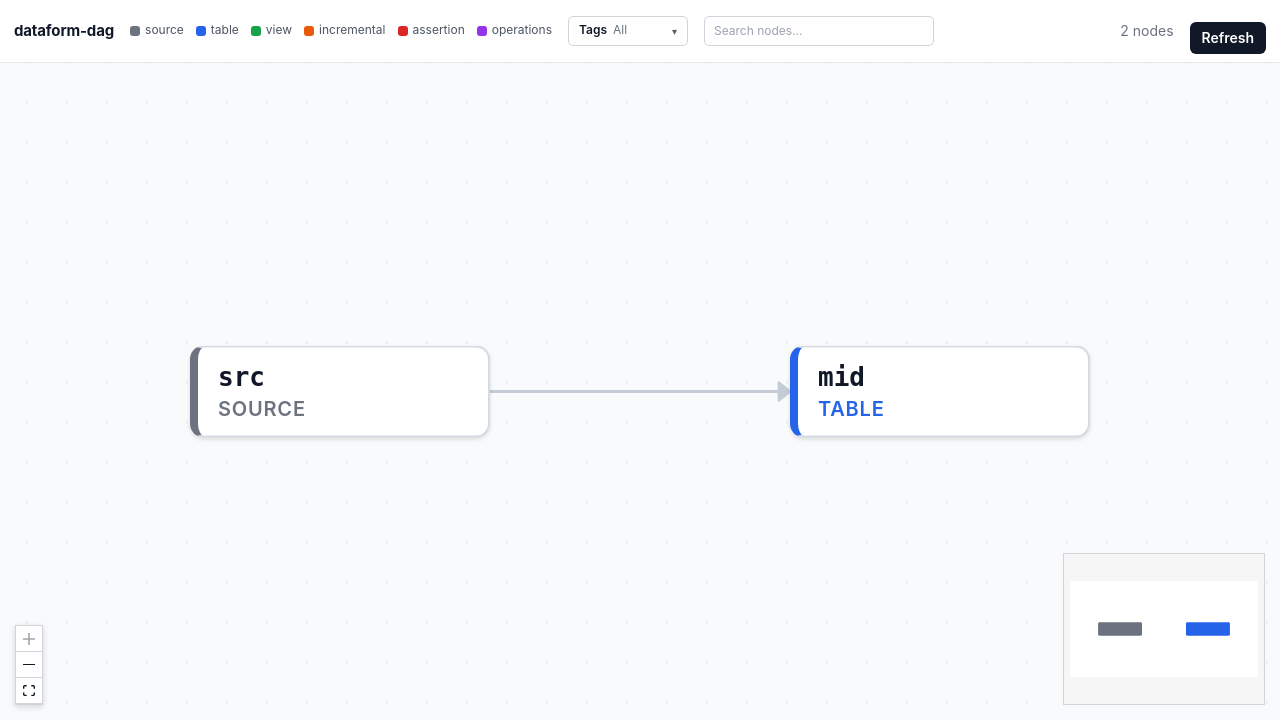
Test case: App › shows matching nodes only
Expected: the text "2 nodes" is shown, [1120, 21, 1174, 41]
Type "mi" into the search field labelled "Search nodes" at (819, 31), box [704, 16, 934, 46]
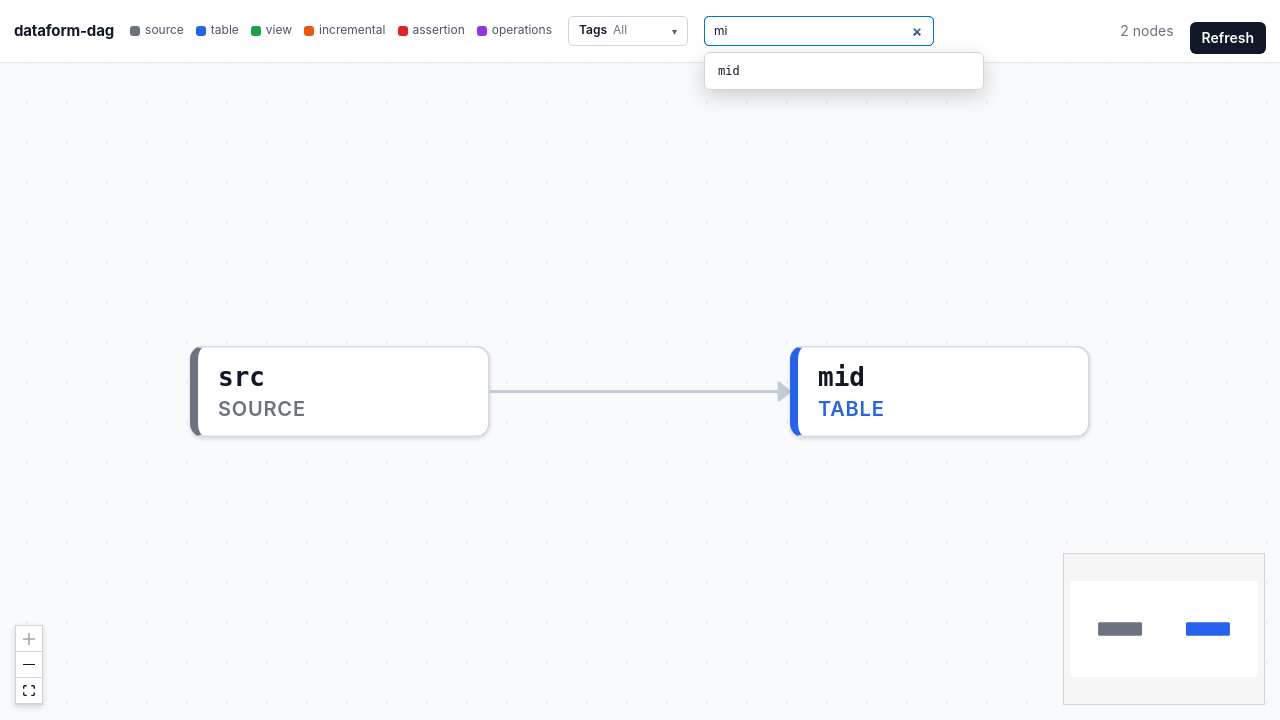
Result: the option "mid" is shown at [710, 58, 978, 84]
